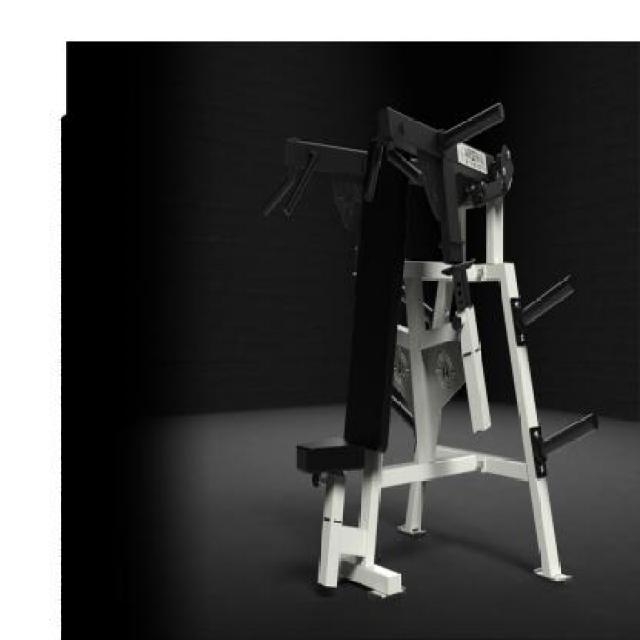shoulder press machine: (260, 106, 597, 602)
